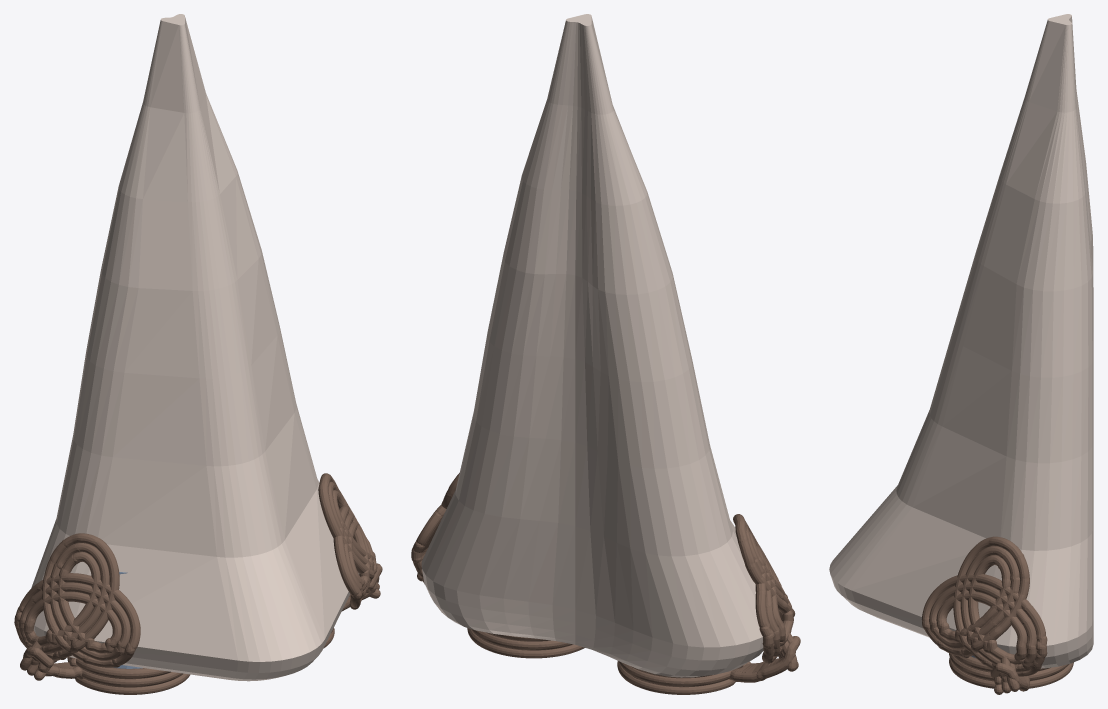
The model's file is candidate_presence.glb.
3 renders of one model, left to right at view 1: azimuth 30°, elevation 25°; view 2: azimuth 150°, elevation 25°; view 3: azimuth 270°, elevation 25°, orthographic. The views are drawn at different scales.
Visible parts, largest first — view 1: body, frame_mizuhiki_left, frame_mizuhiki_right; view 2: body, frame_mizuhiki_left, frame_mizuhiki_right; view 3: body, frame_mizuhiki_right.
Boxes of the visible parts, bbox=[...] form: body: bbox=[31, 14, 359, 681]; frame_mizuhiki_left: bbox=[14, 533, 189, 694]; frame_mizuhiki_right: bbox=[318, 473, 382, 648]; body: bbox=[421, 14, 763, 677]; frame_mizuhiki_left: bbox=[617, 514, 800, 694]; frame_mizuhiki_right: bbox=[411, 473, 584, 658]; body: bbox=[829, 14, 1093, 668]; frame_mizuhiki_right: bbox=[921, 536, 1073, 694].
Size of the model in its own units: 35.38 by 57.9 by 22.75.
